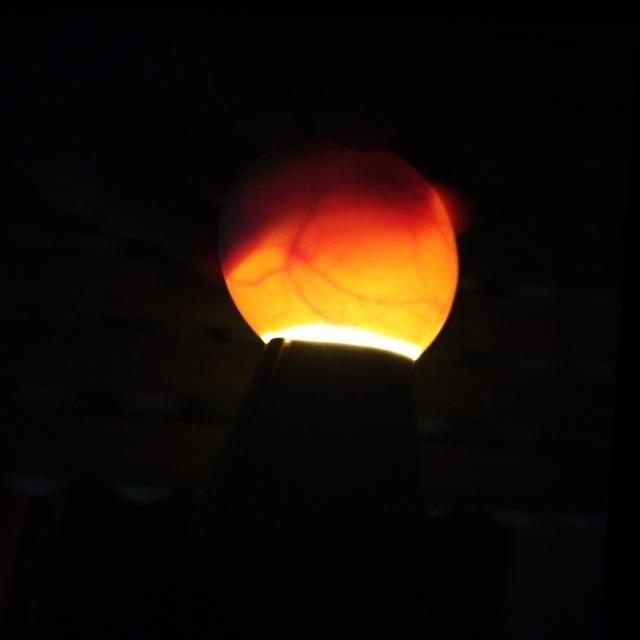Embriao: (220, 132, 435, 271)
